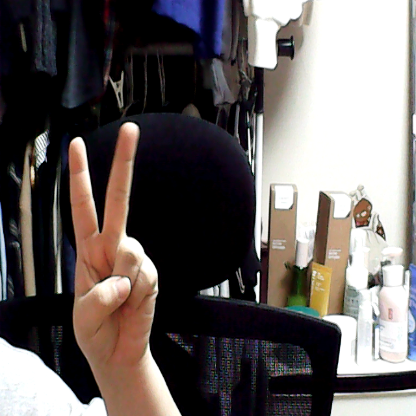Finger_2: (61, 126, 177, 364)
